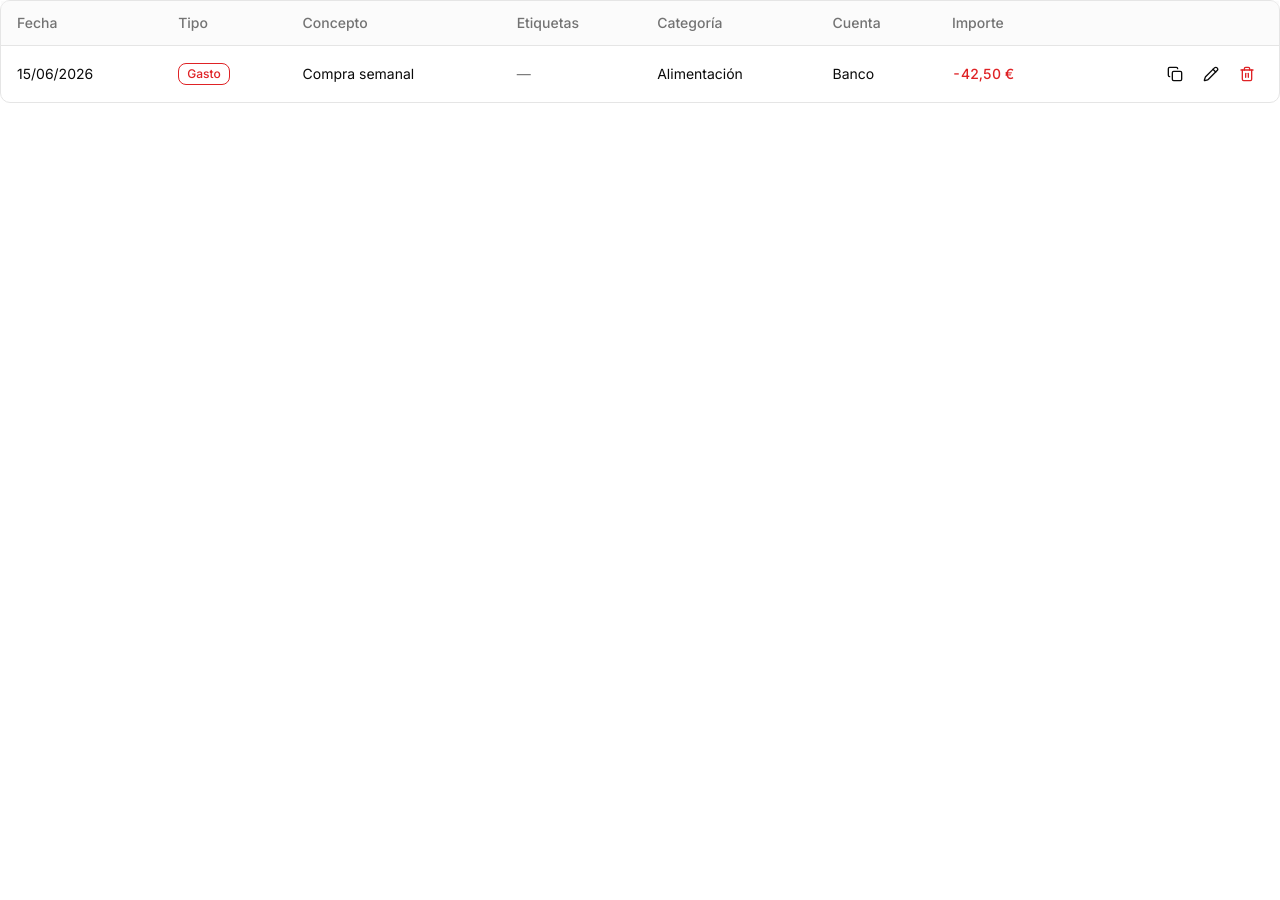
Test: TransactionTable — acciones de fila › pide confirmación antes de eliminar, nombrando el concepto
Step 1. Click the button titled "Eliminar" → (1247, 74), box left=1231, top=58, right=1263, bottom=90
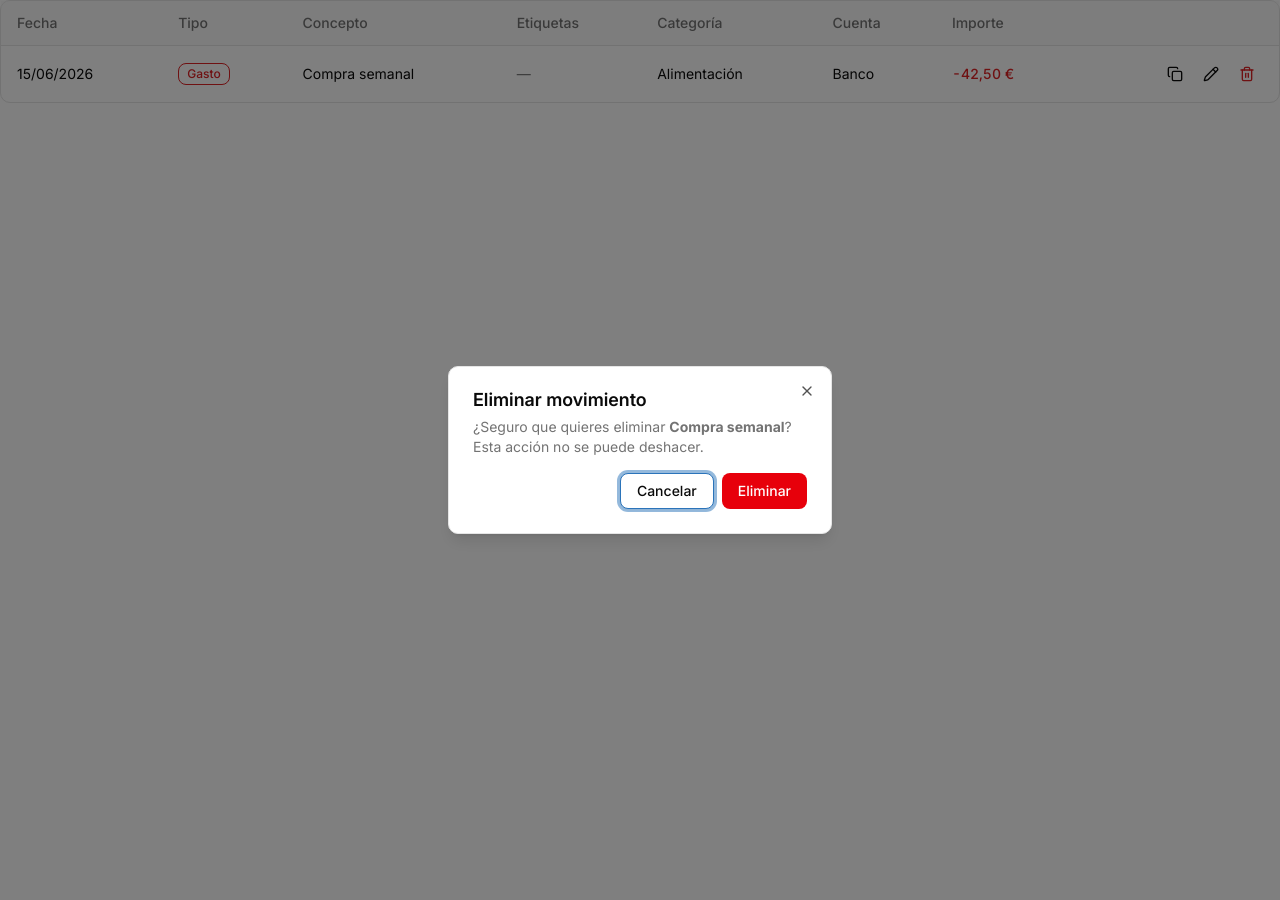
Check: the heading "Eliminar movimiento" is shown, box left=473, top=389, right=647, bottom=410
Check: the text "Compra semanal" is shown, box left=669, top=418, right=785, bottom=435
